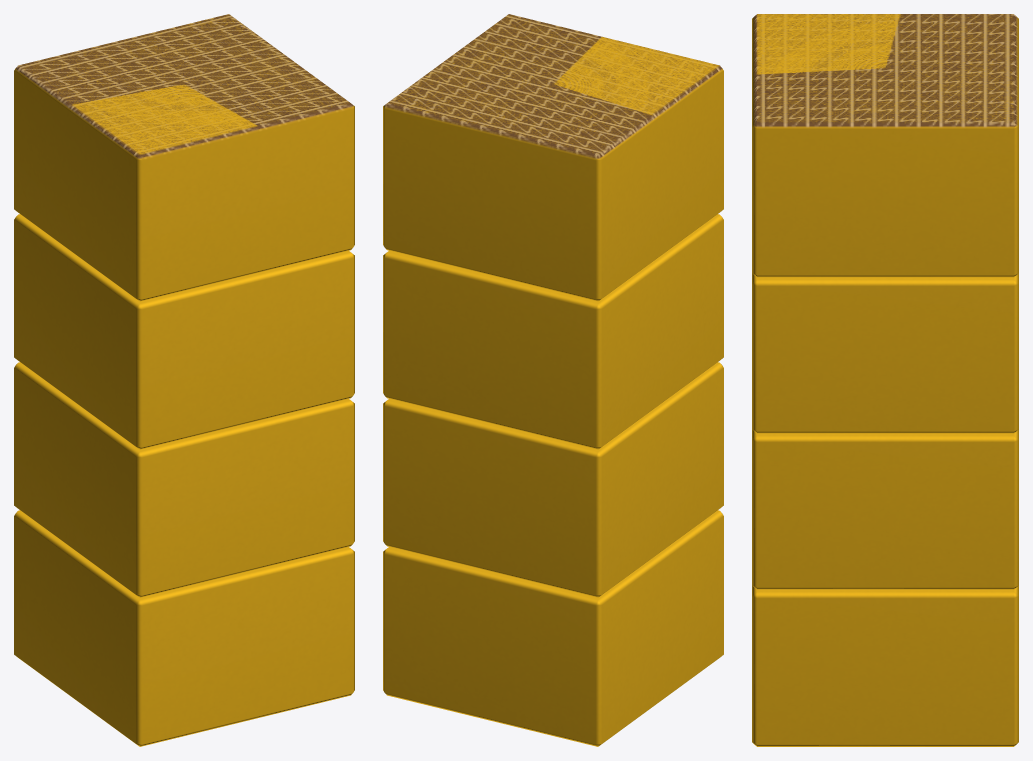
File: 37-posts-back-right.fbx
3 views of the same model, side by side, from view 1: azimuth 30°, elevation 25°; view 2: azimuth 150°, elevation 25°; view 3: azimuth 270°, elevation 25° (orthographic). The views are drawn at different scales.
Parts seen in each view (by area): view 1: posts-back-right; view 2: posts-back-right; view 3: posts-back-right.
Part boxes in pixels (left/top/right/bottom): posts-back-right: left=14, top=14, right=354, bottom=746; posts-back-right: left=383, top=14, right=723, bottom=746; posts-back-right: left=752, top=14, right=1018, bottom=746.
Size of the model in its own units: 2400 by 6200 by 2400.
1 material, 1 textured.
